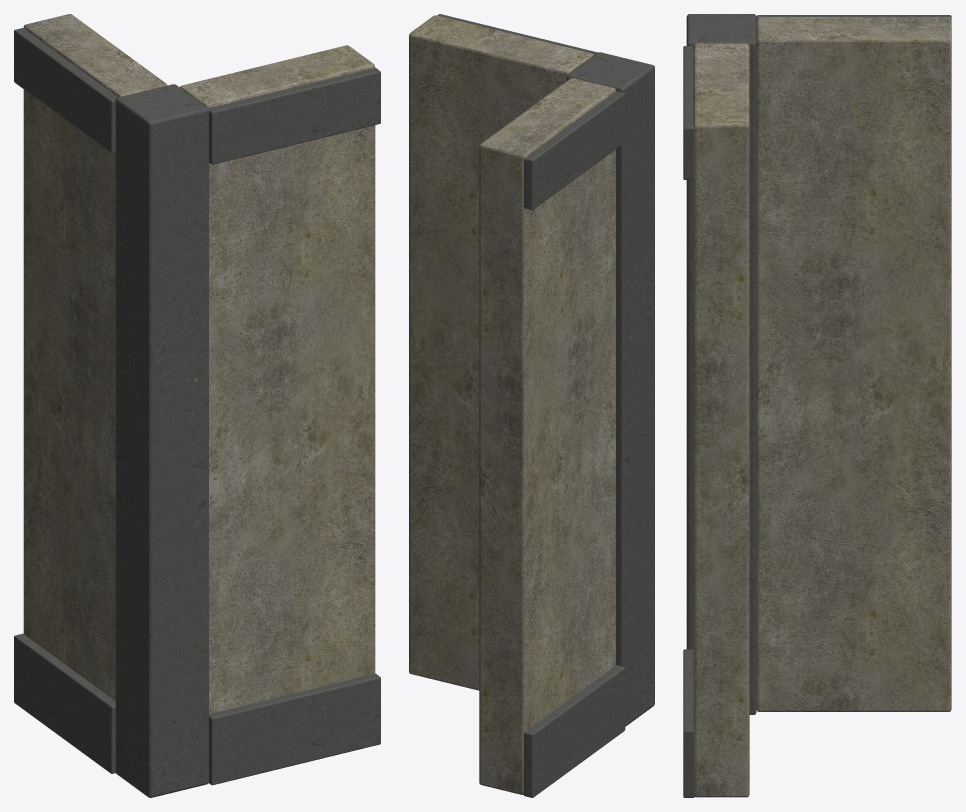
The model's file is corner_1m.glb.
3 renders of one model, left to right at view 1: azimuth 30°, elevation 25°; view 2: azimuth 150°, elevation 25°; view 3: azimuth 270°, elevation 25°, orthographic. The views are drawn at different scales.
Parts seen in each view (by area): view 1: X return, Corner pier, Y return, Corner concrete base, Corner ring beam, Corner concrete base.001, Corner ring beam.001; view 2: Y return, X return, Corner pier, Corner concrete base.001, Corner ring beam.001, Corner ring beam; view 3: Y return, X return, Corner pier, Corner concrete base, Corner ring beam.
Boxes of the visible parts, x1,y1,x2,y2 form: X return: (180, 45, 375, 713); Corner pier: (115, 84, 208, 797); Y return: (23, 14, 167, 700); Corner concrete base: (209, 673, 380, 785); Corner ring beam: (208, 68, 380, 164); Corner concrete base.001: (14, 633, 115, 773); Corner ring beam.001: (14, 28, 117, 153); Y return: (479, 78, 615, 794); X return: (409, 15, 593, 690); Corner pier: (566, 52, 654, 726); Corner concrete base.001: (524, 665, 625, 797); Corner ring beam.001: (524, 91, 625, 209); Corner ring beam: (437, 14, 597, 54); Y return: (756, 17, 951, 711); X return: (693, 43, 749, 797); Corner pier: (686, 14, 756, 714); Corner concrete base: (683, 649, 694, 797); Corner ring beam: (683, 46, 694, 179).
Size of the model in its own units: 1.15 by 3.2 by 1.15.
Materials: 2 (2 with a texture image).
